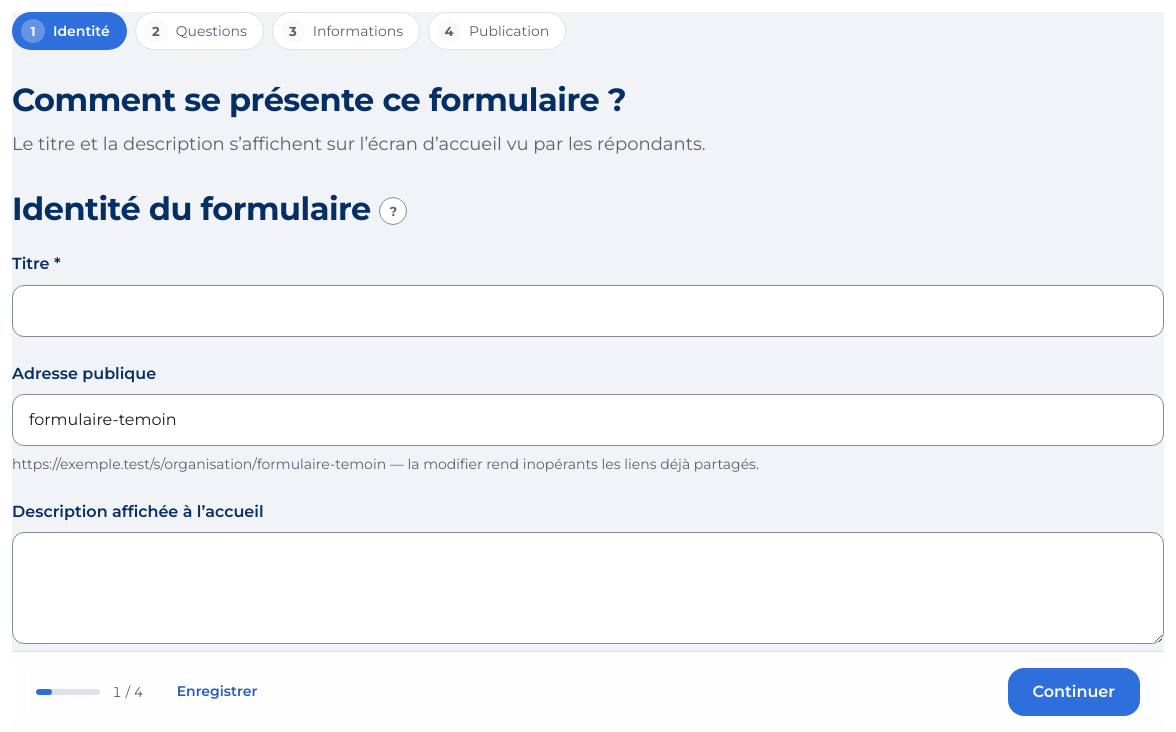
Test: manipulation au clavier › refuse de quitter une étape dont un champ obligatoire est mal rempli, et désigne lequel
Step 1. Click the button "Continuer" → (1074, 692), box [1008,668,1140,716]
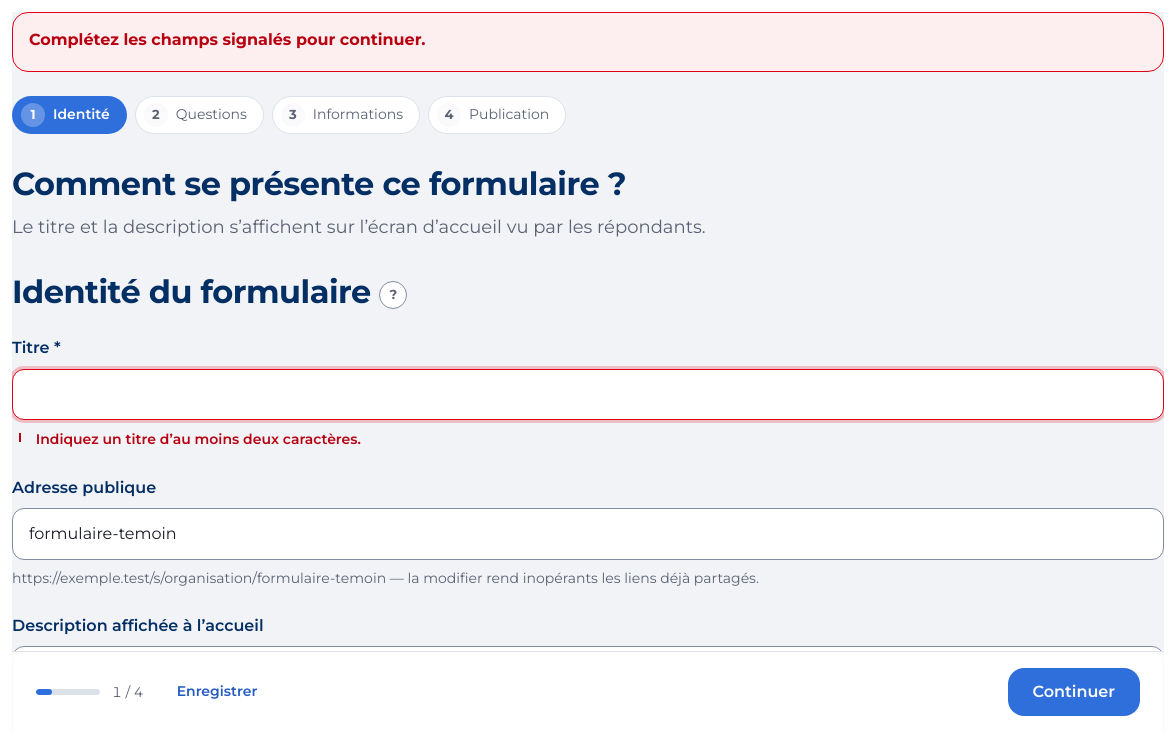
Result: the text "Indiquez un titre d’au moins deux caractères." is shown at [36,430,361,448]
